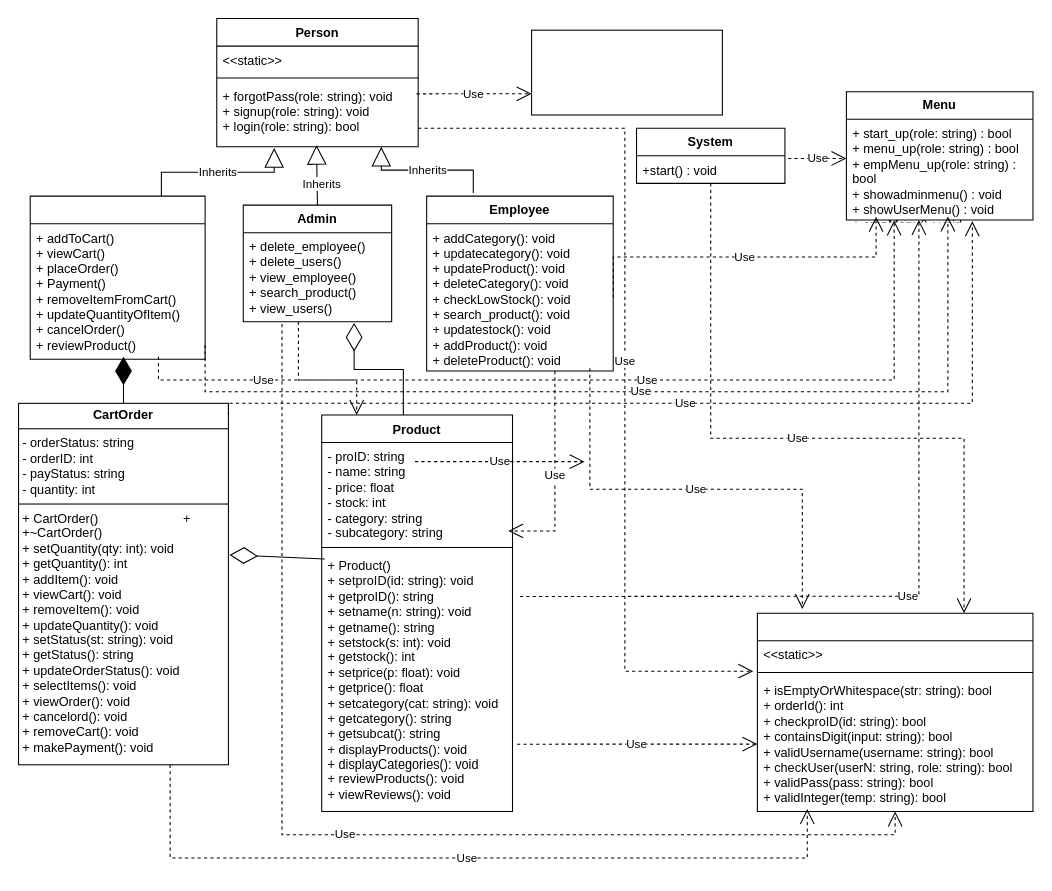
The diagram is 1052 pixels wide and 891 high, and some of its shapes have lost their labels. The box of each missing label's shape, as (x1, y1, x2, y2) in pixels:
Masking <<static>> + getHiddenPassword(): string: (531, 29, 722, 115)
User: (29, 195, 205, 359)
Validation: (756, 612, 1033, 811)
